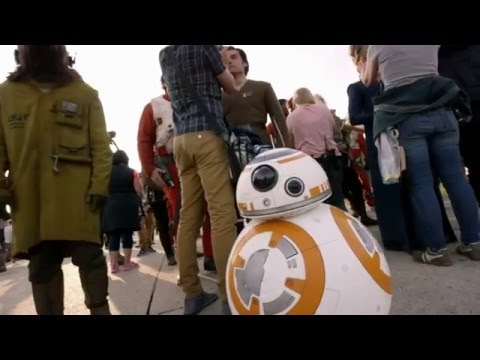bb8: (225, 147, 393, 313)
